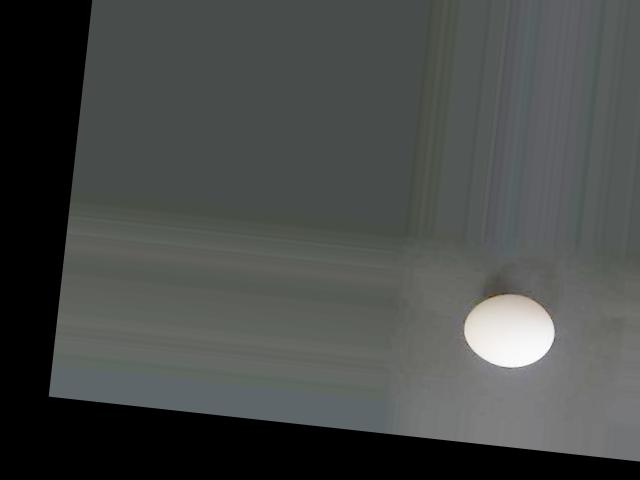egg: (459, 290, 555, 371)
